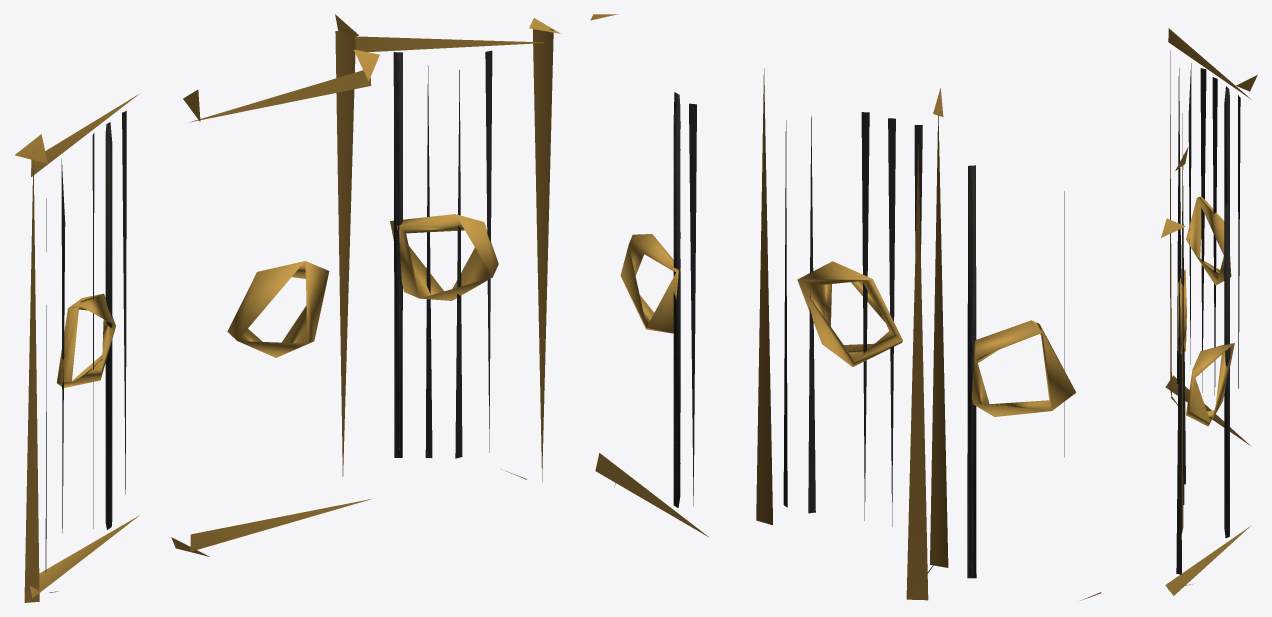
Rendered from ember_spark_guard_lod2.glb.
3 renders of one model, left to right at view 1: azimuth 30°, elevation 25°; view 2: azimuth 150°, elevation 25°; view 3: azimuth 270°, elevation 25°, orthographic. The views are drawn at different scales.
Visible parts, largest first — view 1: ember_spark_guard.001; view 2: ember_spark_guard.001; view 3: ember_spark_guard.001.
Boxes of the visible parts, left/top/right/bottom form: ember_spark_guard.001: left=15, top=14, right=560, bottom=602; ember_spark_guard.001: left=590, top=14, right=1101, bottom=600; ember_spark_guard.001: left=1161, top=28, right=1257, bottom=595.
Bounding box in the file's own units: 28.79 × 24.37 × 5.58.
